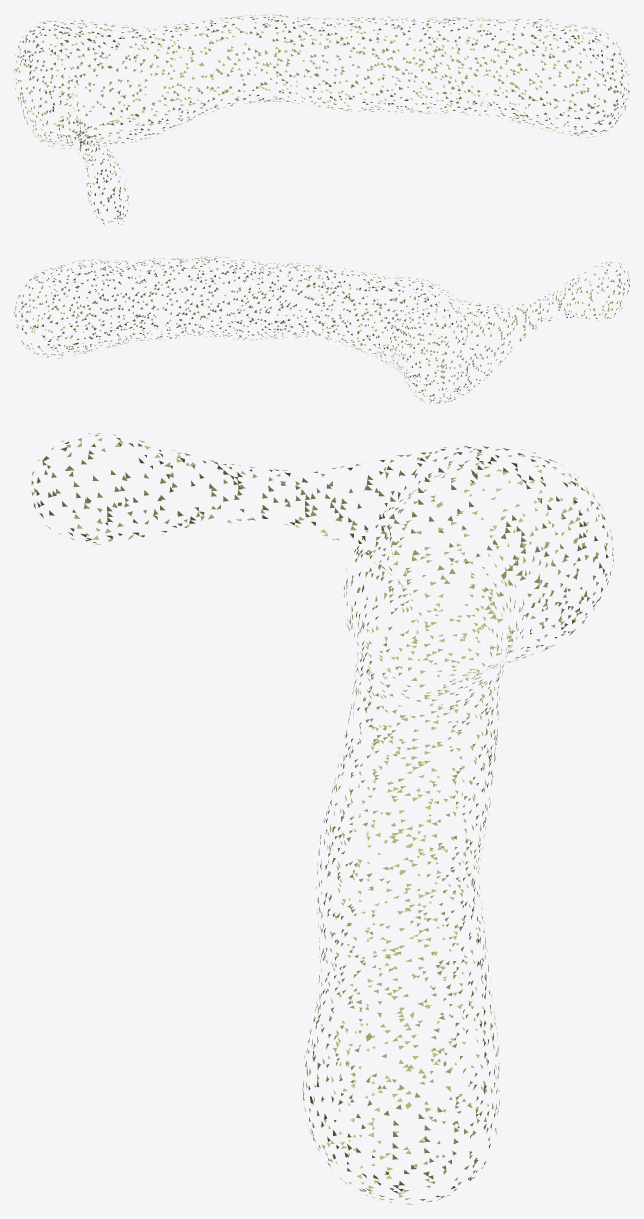
Rendered from morph_011.glb.
3 renders of one model, top to bottom at view 1: azimuth 30°, elevation 25°; view 2: azimuth 150°, elevation 25°; view 3: azimuth 270°, elevation 25°, orthographic. The views are drawn at different scales.
Size of the model in its own units: 137 by 43.73 by 67.29.
